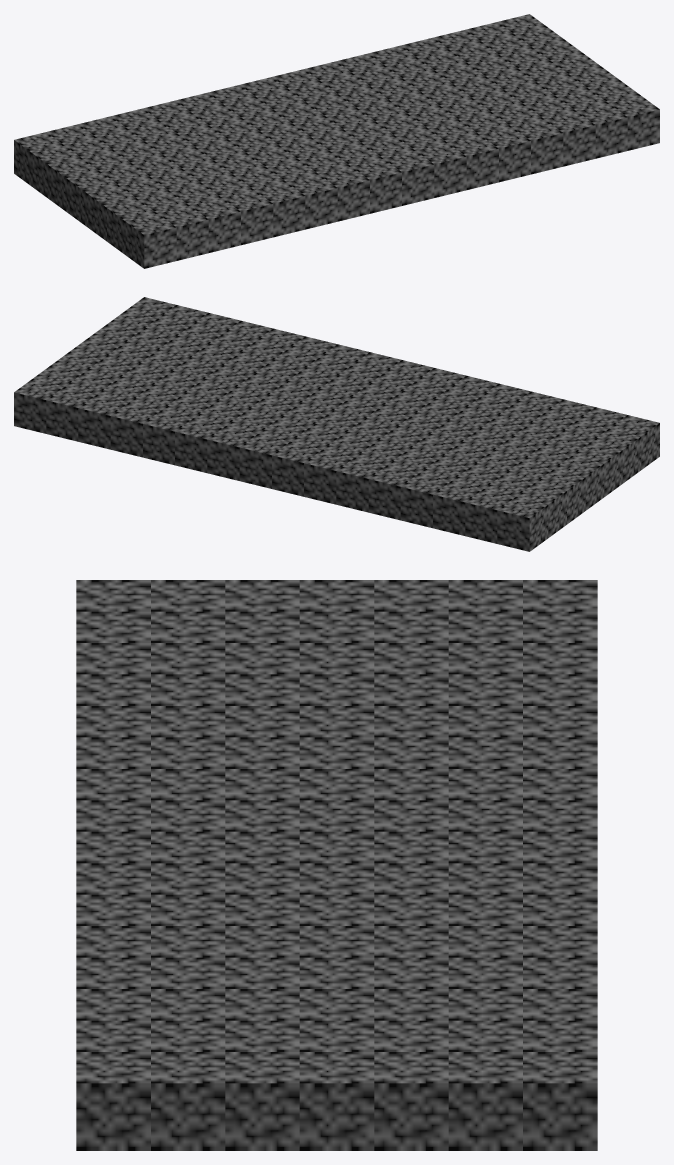
File: bedrock_platform.fbx
3 views of the same model, one above another, from view 1: azimuth 30°, elevation 25°; view 2: azimuth 150°, elevation 25°; view 3: azimuth 270°, elevation 25° (orthographic). The views are drawn at different scales.
Parts seen in each view (by area): view 1: Cube.006; view 2: Cube.006; view 3: Cube.006.
Boxes of the visible parts, x1,y1,x2,y2 form: Cube.006: (14, 14, 659, 268); Cube.006: (14, 297, 659, 551); Cube.006: (76, 580, 597, 1150).
Bounding box in the file's own units: 3200 × 200 × 1400.
